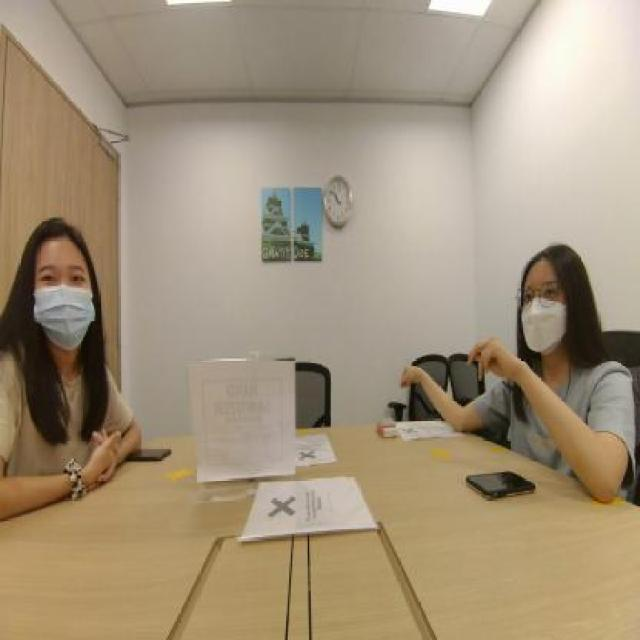Person: (438, 195, 627, 462), (0, 177, 131, 474)
